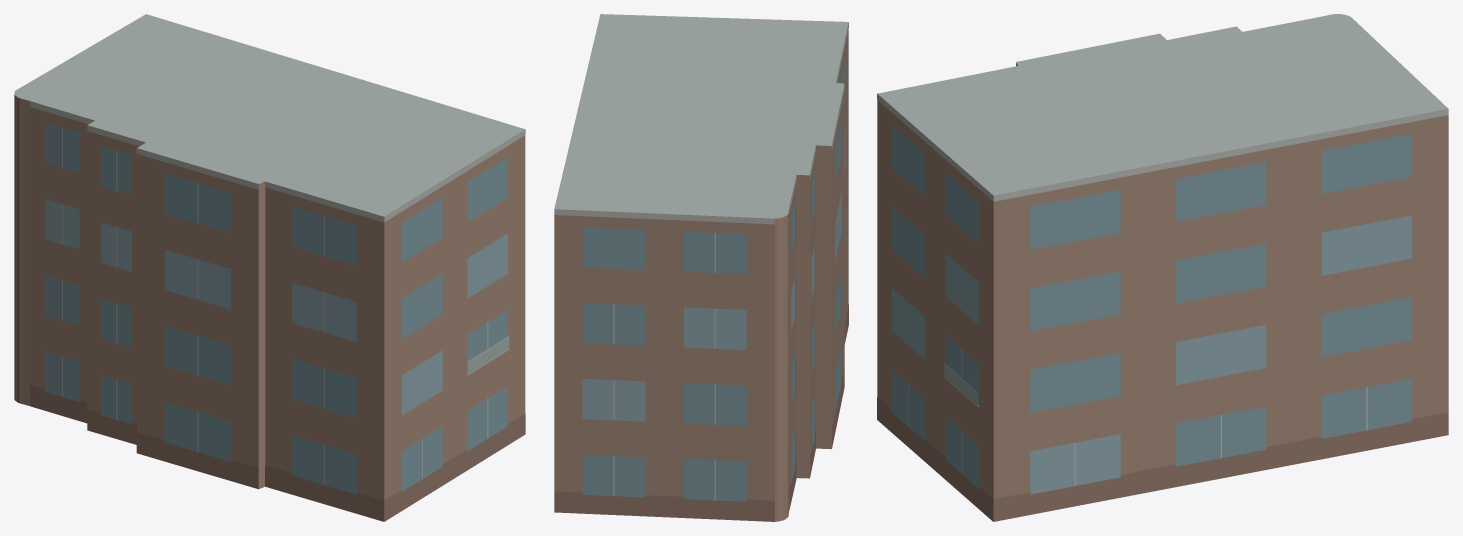
File: survey-upis-32659618.glb
The picture shows the model from 3 angles, left to right: view 1: azimuth 30°, elevation 25°; view 2: azimuth 150°, elevation 25°; view 3: azimuth 270°, elevation 25°; orthographic projection. The views are drawn at different scales.
Visible parts, largest first — view 1: survey-upis-32659618.tmp; view 2: survey-upis-32659618.tmp; view 3: survey-upis-32659618.tmp.
Part boxes in pixels (box(x1,y1,x2,y2)): survey-upis-32659618.tmp: box(14, 14, 525, 521); survey-upis-32659618.tmp: box(554, 14, 848, 521); survey-upis-32659618.tmp: box(877, 14, 1448, 521).
Bounding box in the file's own units: 15.35 × 12.85 × 20.41.
